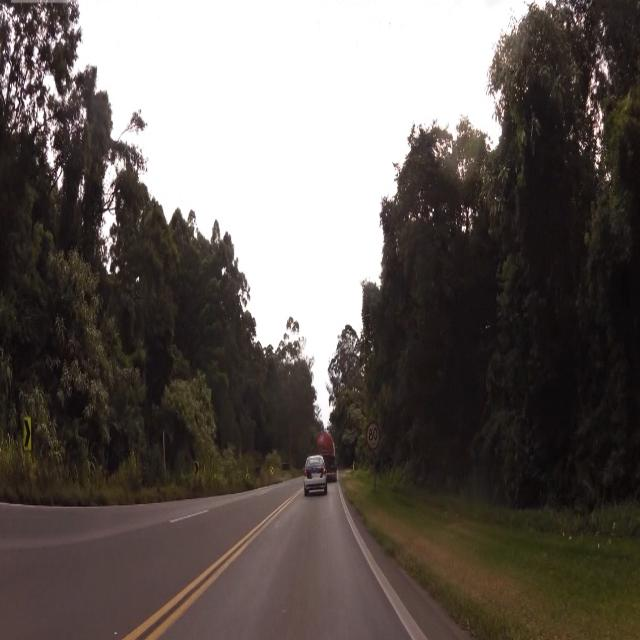R-19: (367, 421, 380, 453)
